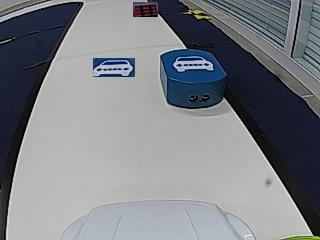safety: (173, 55, 215, 72)
